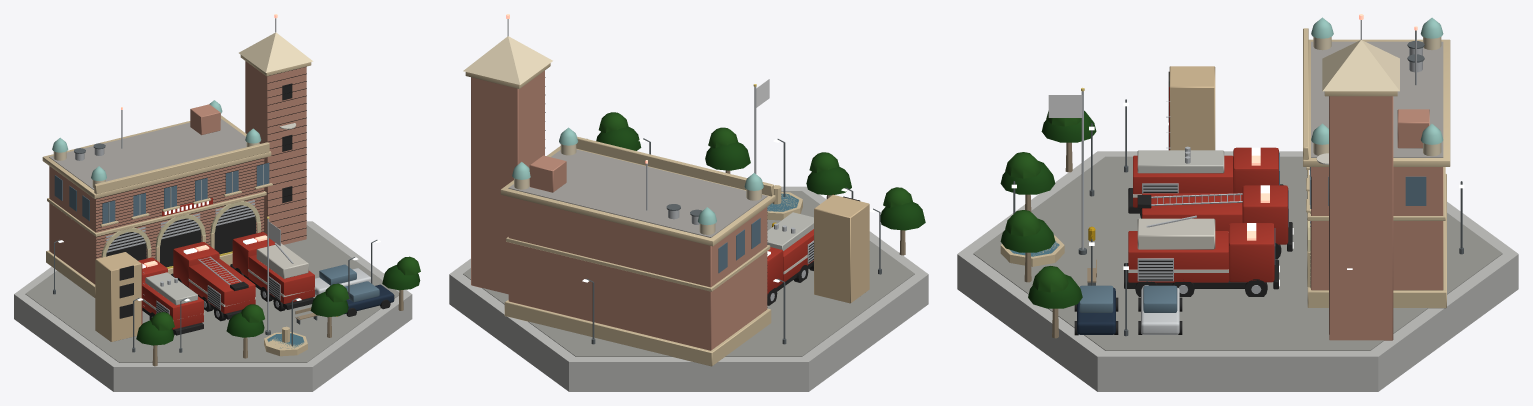
The model's file is fireStation_arab.glb.
3 views of the same model, side by side, from view 1: azimuth 30°, elevation 25°; view 2: azimuth 150°, elevation 25°; view 3: azimuth 270°, elevation 25° (orthographic). The views are drawn at different scales.
Visible parts, largest first — view 1: brick, wall_concrete, pavers, stone, paint, dark, gravel, leaf, glass, metal, plaster, steel_dark (+2 smaller); view 2: brick, wall_concrete, stone, pavers, gravel, leaf, plaster, paint, glass, copper, steel_dark, metal (+1 smaller); view 3: pavers, wall_concrete, brick, paint, stone, leaf, gravel, plaster, dark, glass, metal, copper (+3 smaller).
Boxes of the visible parts, <box> form: brick: <box>49,61,306,284</box>; wall_concrete: <box>14,164,412,391</box>; pavers: <box>25,225,399,362</box>; stone: <box>42,55,311,356</box>; paint: <box>138,123,394,329</box>; dark: <box>96,66,390,335</box>; gravel: <box>49,119,246,189</box>; leaf: <box>136,256,420,345</box>; glass: <box>54,163,379,348</box>; metal: <box>75,18,293,331</box>; plaster: <box>53,32,313,187</box>; steel_dark: <box>53,143,377,352</box>; brick: <box>471,70,767,350</box>; wall_concrete: <box>449,186,928,391</box>; stone: <box>465,63,869,366</box>; pavers: <box>463,191,914,356</box>; gravel: <box>508,149,767,237</box>; leaf: <box>596,112,925,230</box>; plaster: <box>463,36,761,234</box>; paint: <box>767,194,833,294</box>; glass: <box>718,193,798,273</box>; copper: <box>512,127,763,225</box>; steel_dark: <box>586,138,881,344</box>; metal: <box>507,19,813,300</box>; pavers: <box>973,156,1502,350</box>; wall_concrete: <box>957,151,1518,391</box>; brick: <box>1311,96,1443,340</box>; paint: <box>1077,87,1328,334</box>; stone: <box>1000,28,1450,308</box>; leaf: <box>1000,110,1096,308</box>; gravel: <box>1311,41,1443,157</box>; plaster: <box>1313,37,1441,156</box>; dark: <box>1074,71,1329,335</box>; glass: <box>1010,152,1426,312</box>; metal: <box>1081,20,1422,293</box>; copper: <box>1311,17,1443,144</box>.
Size of the model in its own units: 21.3 by 16.8 by 24.6.
